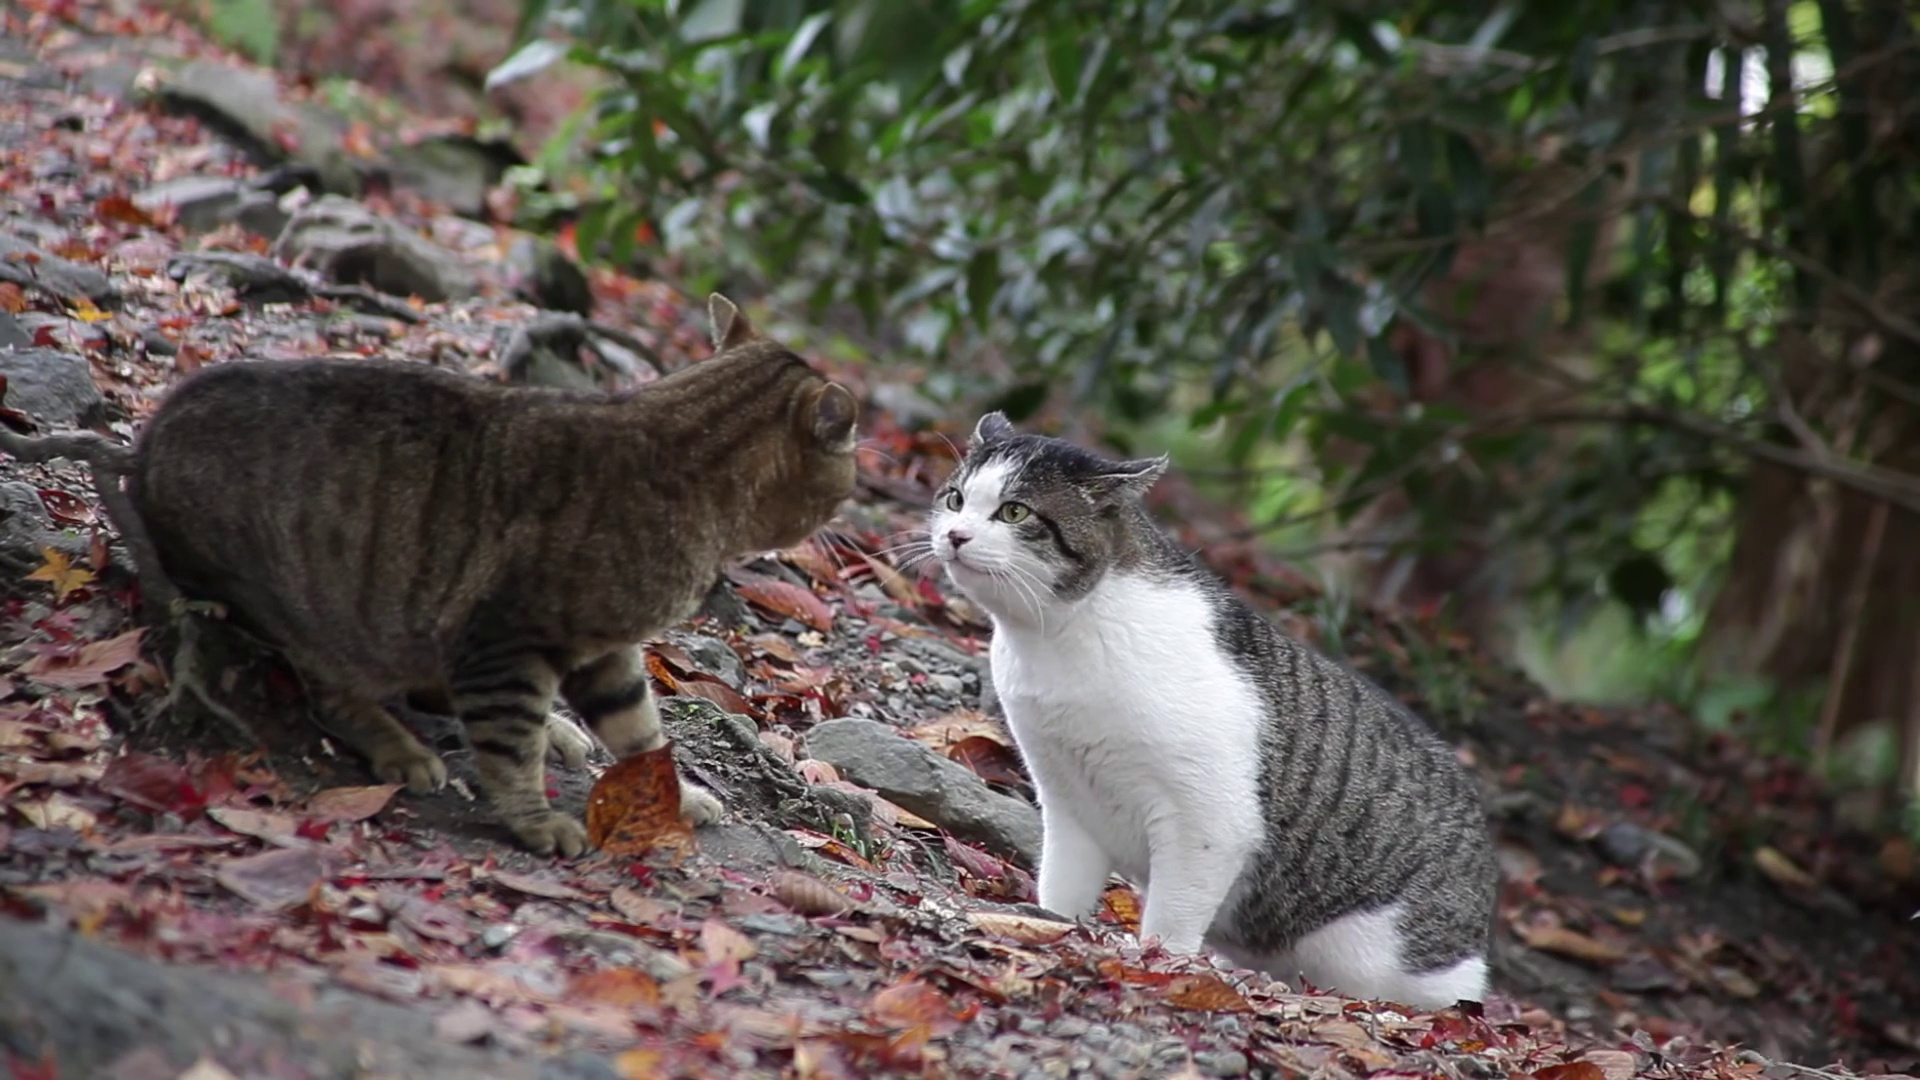black-white: (934, 410, 1490, 1006)
pure black: (133, 293, 857, 858)
